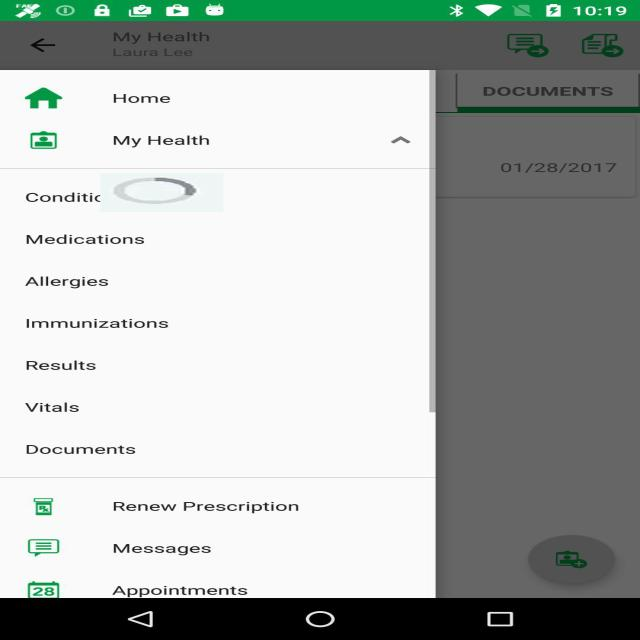misdirection: (100, 173, 224, 212)
